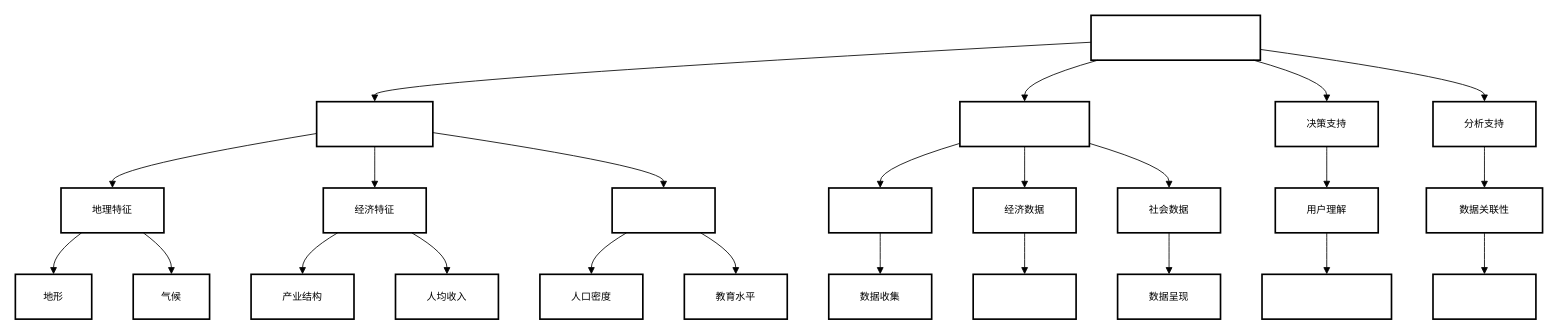
Some shapes in this 1557 by 334 pixel diagram are drawn without their labels. The box of each missing label's shape, as (x1, y1, x2, y2) in pixels:
五色图指标关联组件: (1090, 14, 1261, 61)
优化策略: (1432, 273, 1536, 320)
地理数据: (828, 187, 932, 233)
数据分析: (972, 273, 1077, 320)
直观特征认识: (1261, 273, 1392, 320)
社会特征: (611, 187, 715, 233)
视觉化展现: (315, 100, 433, 147)
重庆地理板块: (959, 100, 1090, 147)
